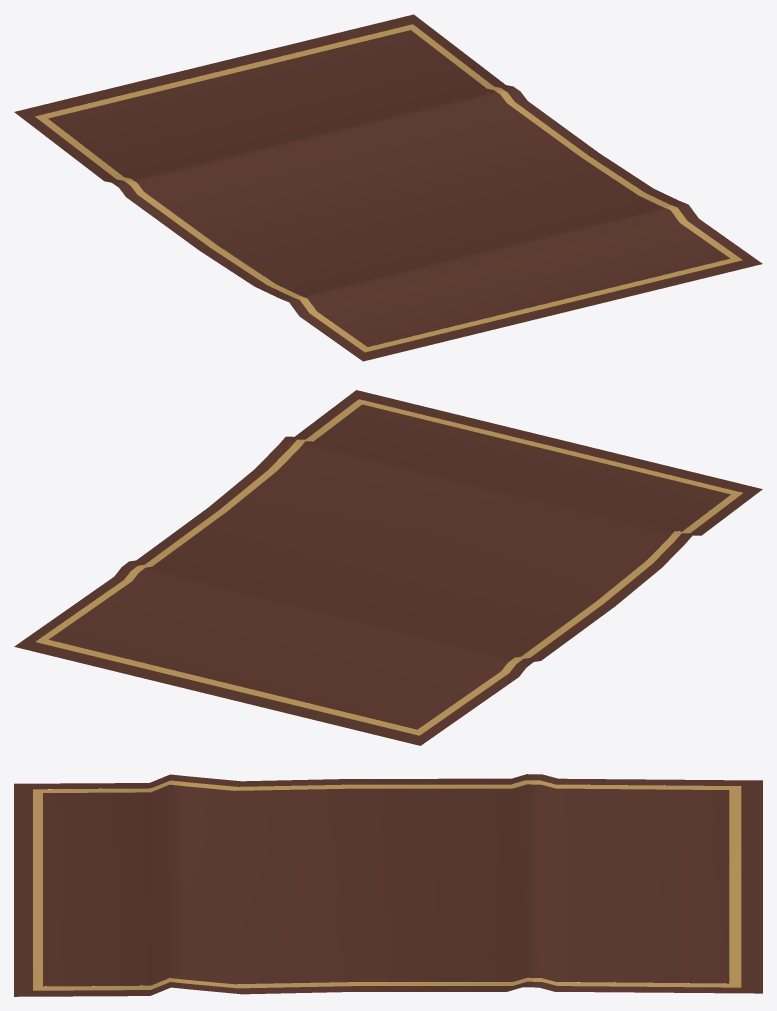
File: carpet-transformed.glb
3 renders of one model, top to bottom at view 1: azimuth 30°, elevation 25°; view 2: azimuth 150°, elevation 25°; view 3: azimuth 270°, elevation 25°, orthographic. The views are drawn at different scales.
Visible parts, largest first — view 1: Carpet_1; view 2: Carpet_1; view 3: Carpet_1.
Boxes of the visible parts, x1,y1,x2,y2 form: Carpet_1: (14,14,762,361); Carpet_1: (14,390,762,745); Carpet_1: (14,774,762,996).
Bounding box in the file's own units: 2.13 × 0.0366 × 3.09.
